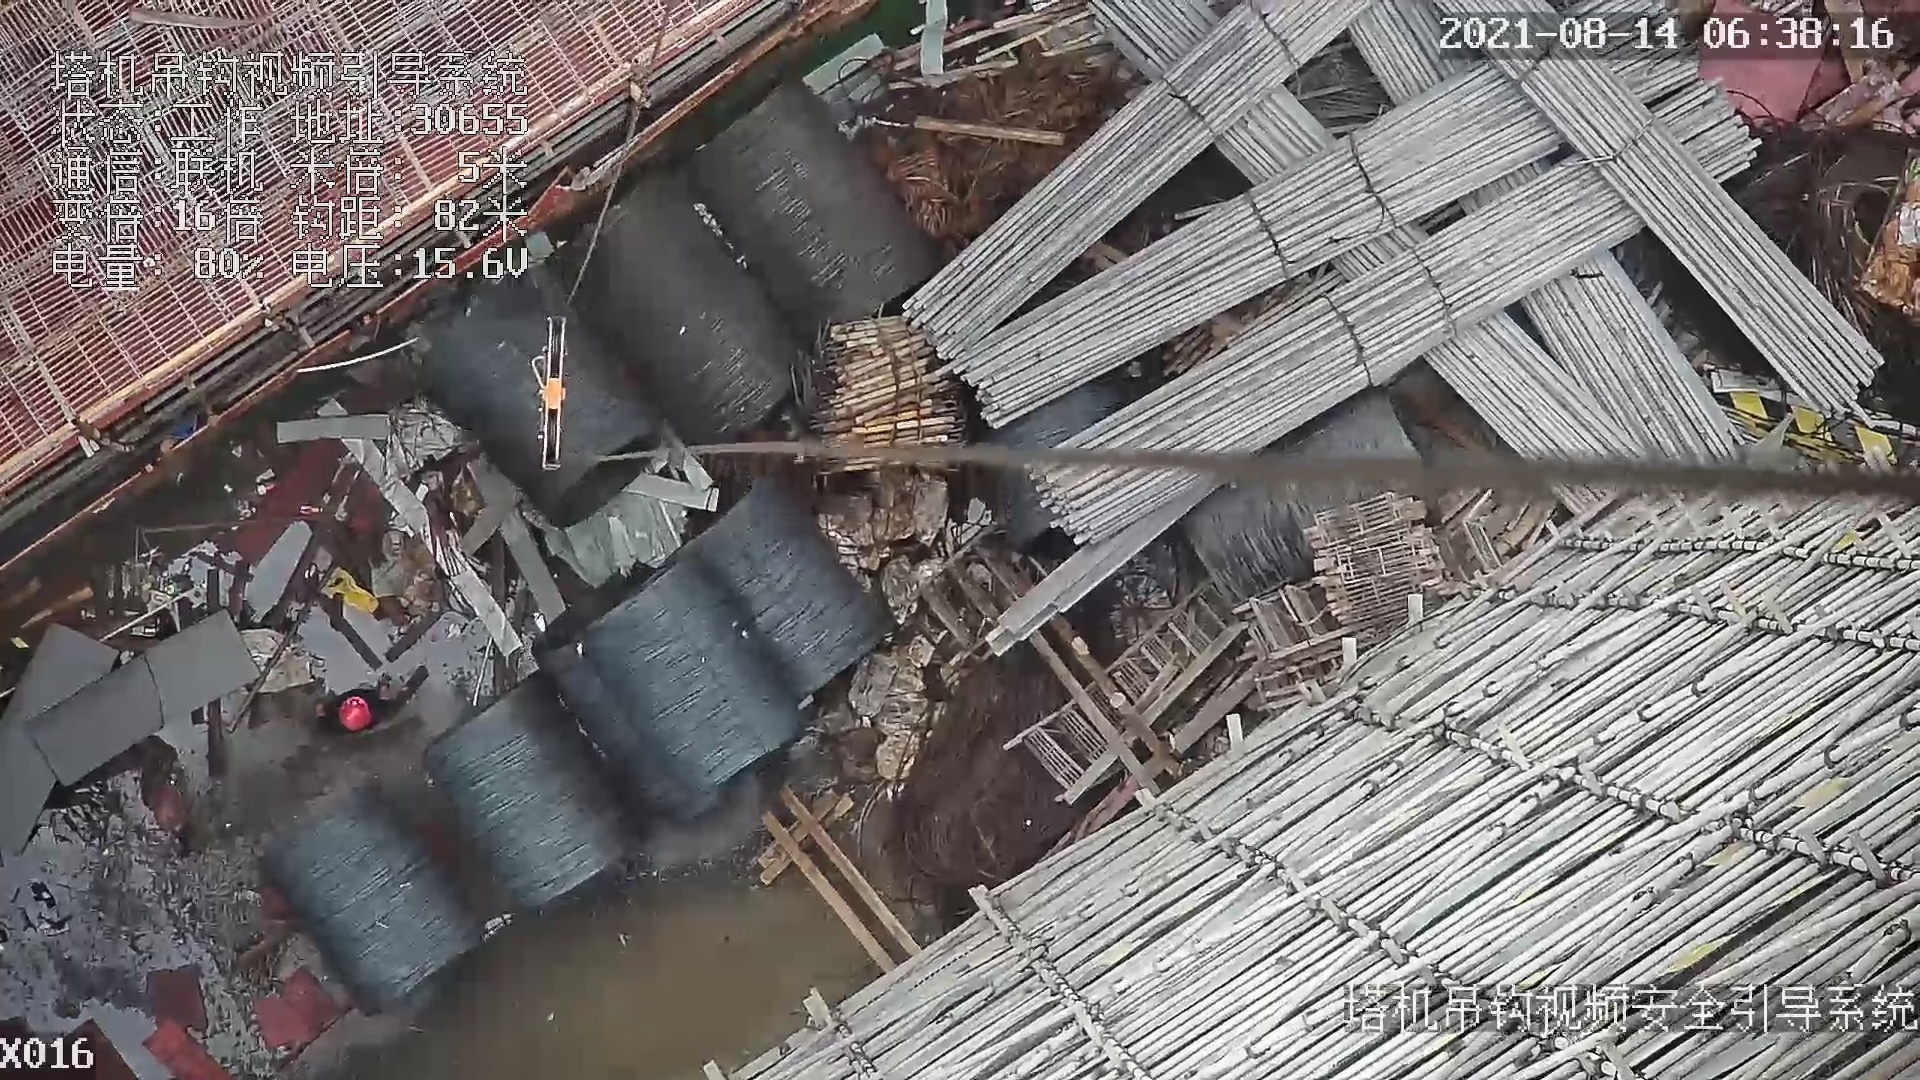helmet: (332, 690, 372, 732)
hook: (533, 308, 569, 477)
person: (309, 680, 432, 735)
